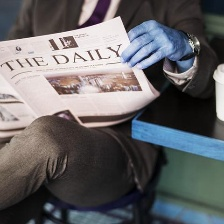news_paper: (0, 13, 166, 140)
